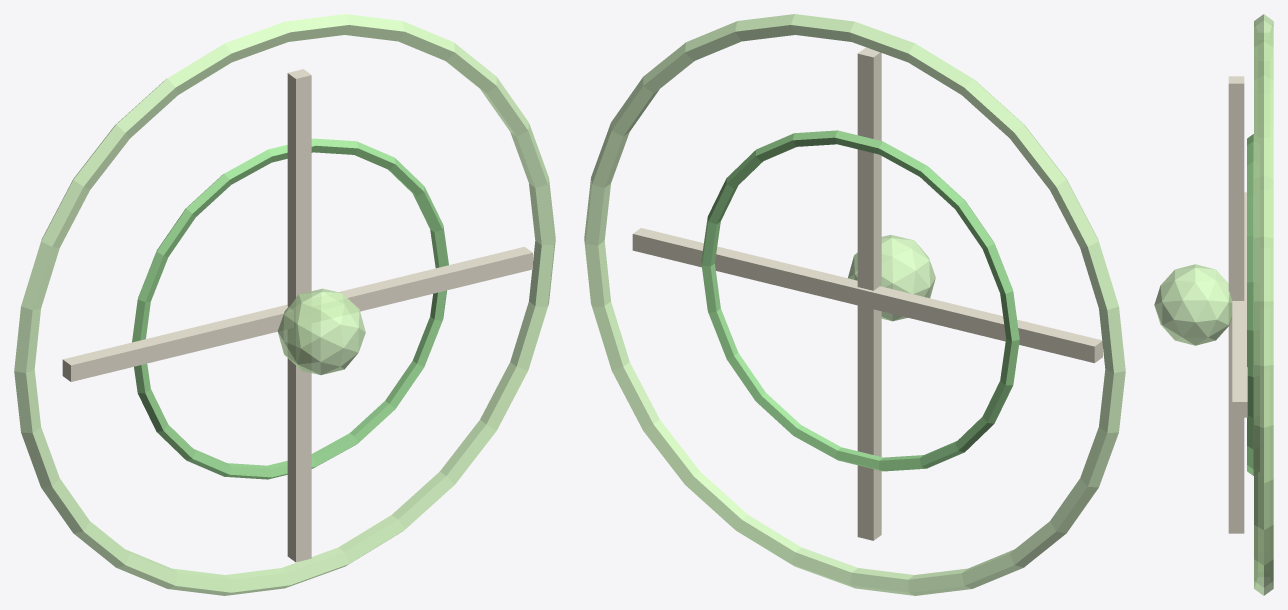
The model's file is 06_combat_flow_anchor.glb.
The picture shows the model from 3 angles, left to right: view 1: azimuth 30°, elevation 25°; view 2: azimuth 150°, elevation 25°; view 3: azimuth 270°, elevation 25°; orthographic projection. The views are drawn at different scales.
Visible parts, largest first — view 1: flow_outer_ring, flow_inner_ring, flow_lane_cross, flow_lane_forward, perfect_flow_core; view 2: flow_outer_ring, flow_inner_ring, flow_lane_forward, flow_lane_cross, perfect_flow_core; view 3: flow_outer_ring, flow_lane_cross, perfect_flow_core, flow_inner_ring, flow_lane_forward.
Part boxes in pixels (x1=…): flow_outer_ring: x1=14, y1=14, x2=555, y2=595; flow_inner_ring: x1=132, y1=138, x2=448, y2=479; flow_lane_cross: x1=287, y1=69, x2=311, y2=562; flow_lane_forward: x1=62, y1=246, x2=532, y2=381; perfect_flow_core: x1=277, y1=288, x2=365, y2=374; flow_outer_ring: x1=584, y1=14, x2=1125, y2=595; flow_inner_ring: x1=701, y1=130, x2=1019, y2=471; flow_lane_forward: x1=632, y1=228, x2=1102, y2=363; flow_lane_cross: x1=857, y1=47, x2=881, y2=540; perfect_flow_core: x1=848, y1=235, x2=935, y2=321; flow_outer_ring: x1=1254, y1=14, x2=1273, y2=595; flow_lane_cross: x1=1228, y1=76, x2=1244, y2=533; perfect_flow_core: x1=1154, y1=264, x2=1232, y2=345; flow_inner_ring: x1=1247, y1=134, x2=1259, y2=475; flow_lane_forward: x1=1232, y1=192, x2=1247, y2=417.
Size of the model in its own units: 1.7 by 1.7 by 0.3485.
